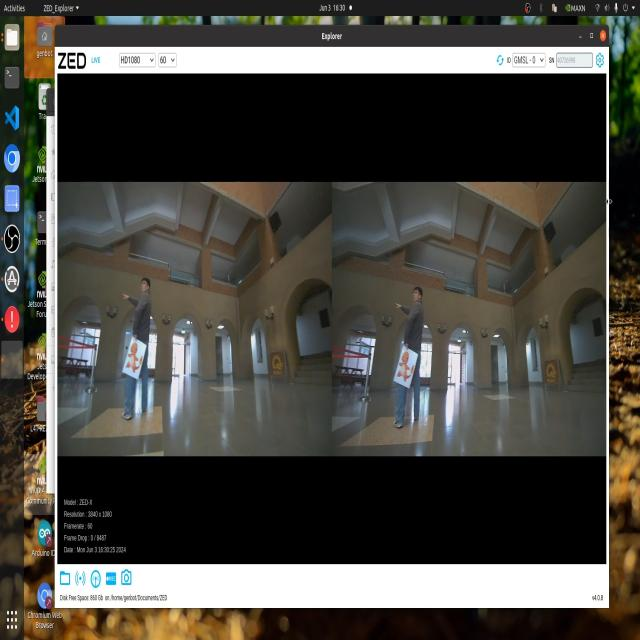red: (122, 334, 146, 380), (394, 345, 416, 386)
